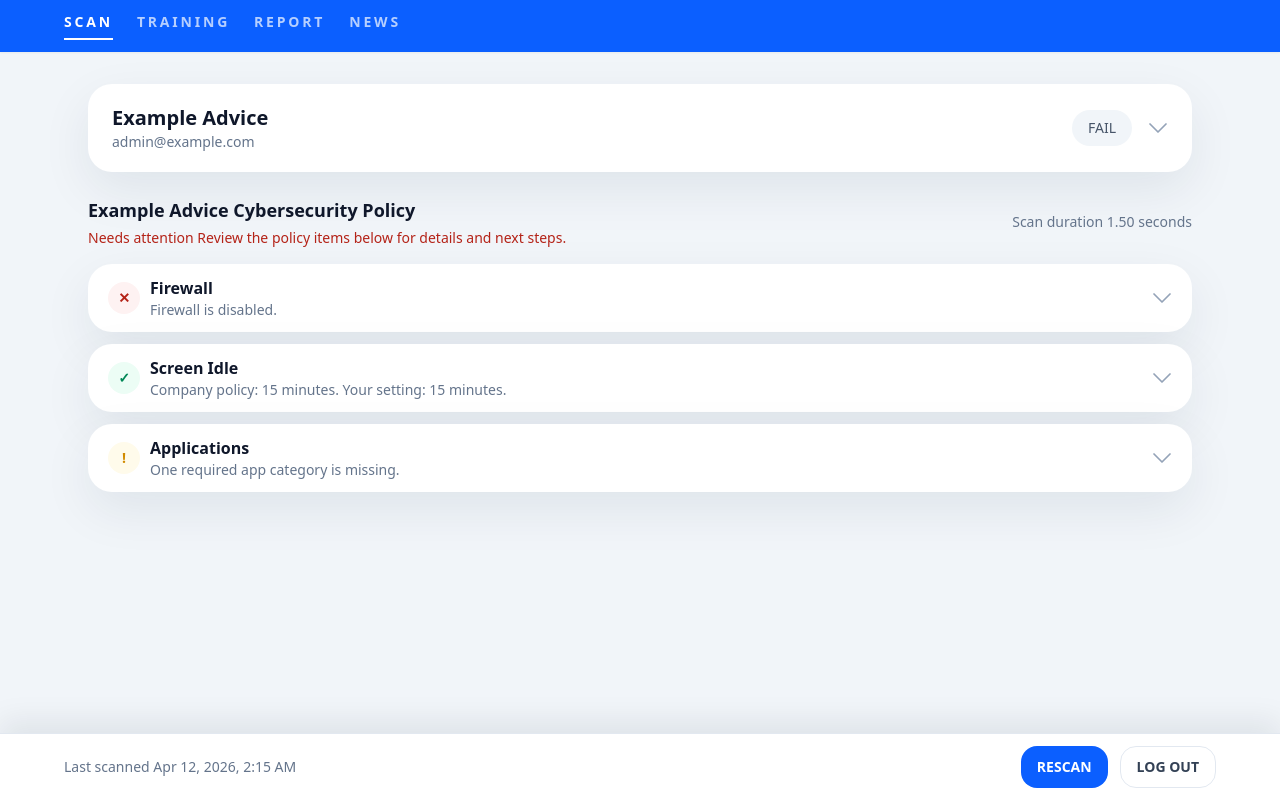
opens Applications details without the recommended action footer
Click the button "! Applications One required app category is missing." at (124, 458), box [88,424,1192,492]
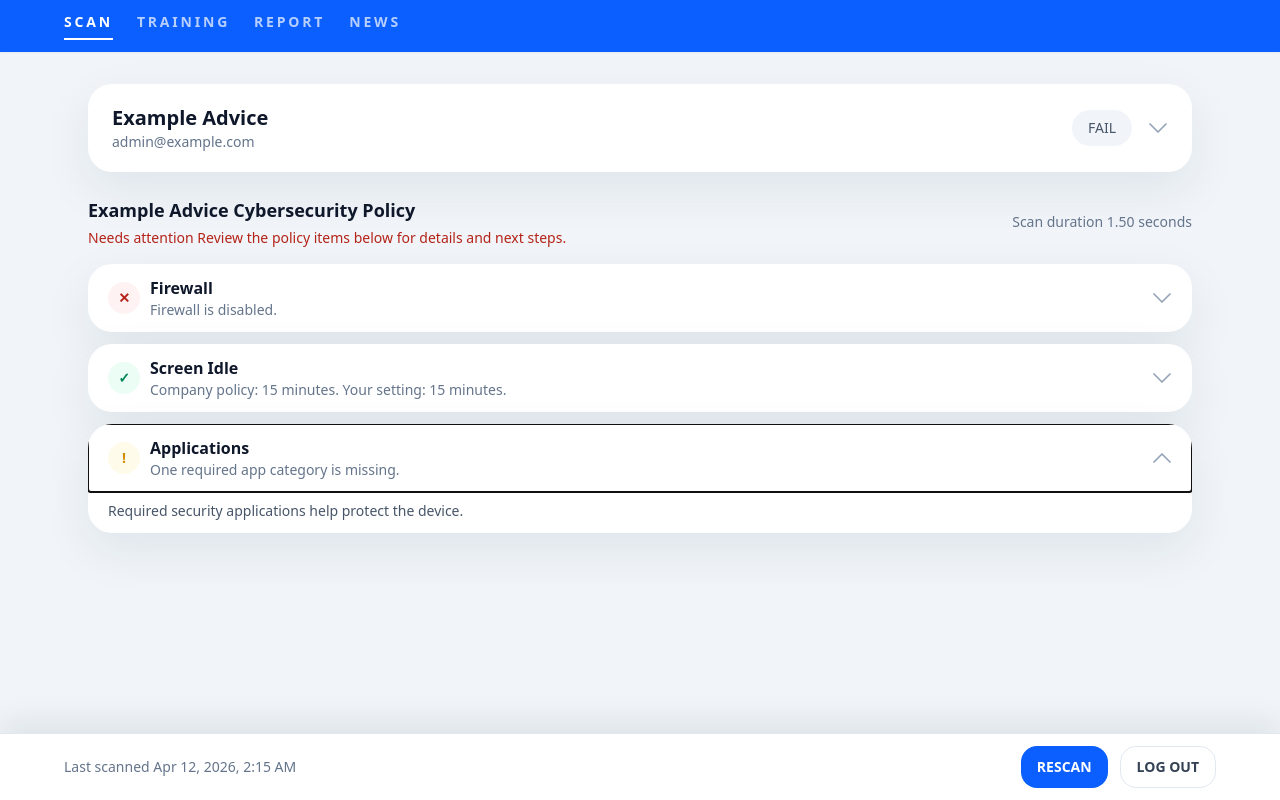
Expected: the text "Required security applications help protect the device." is shown, [108,501,463,520]
